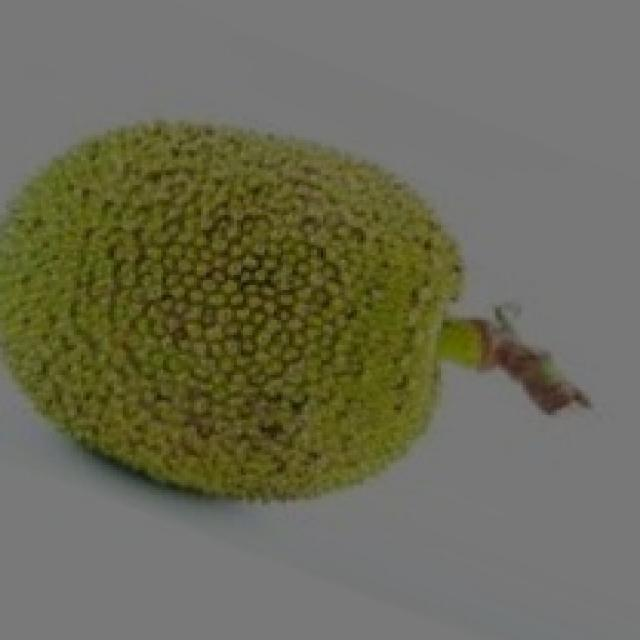Fruit: (80, 98, 489, 520)
